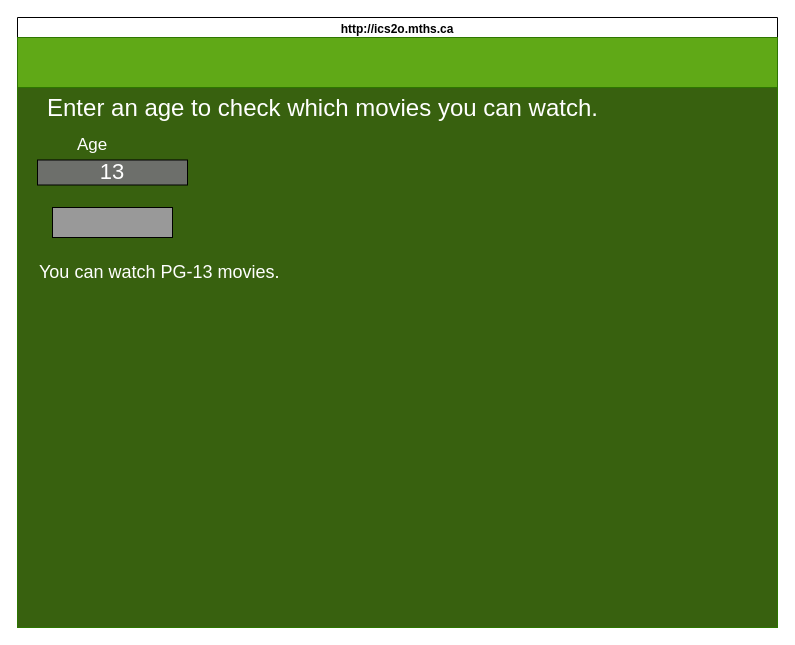
This 795x645 diagram has some shape labels left out. The centre of each missing label's shape, as x and y in pixels:
Check Age: point (112, 222)
Movie Age Checker: point (397, 62)
